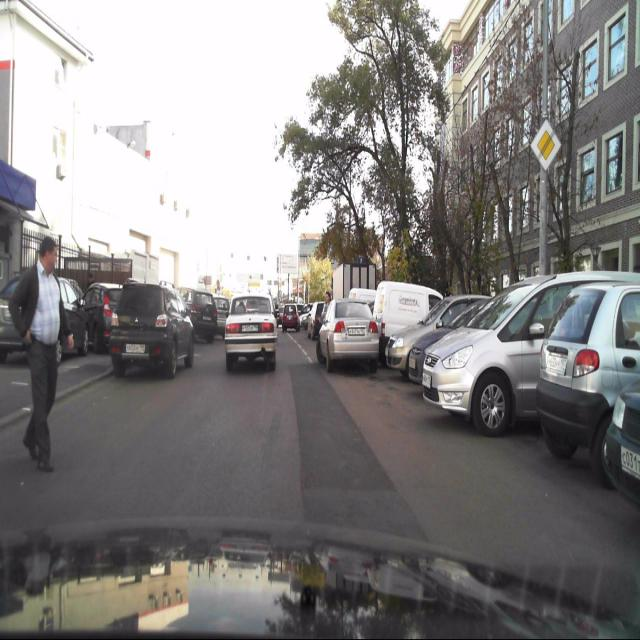road sign: (530, 114, 561, 173)
